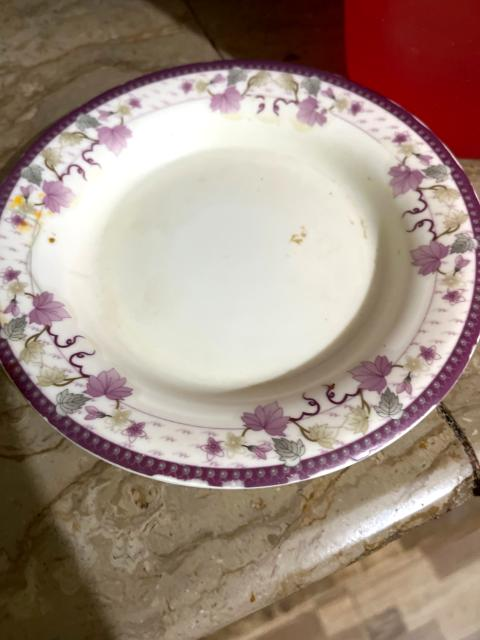Plate: (0, 62, 479, 487)
